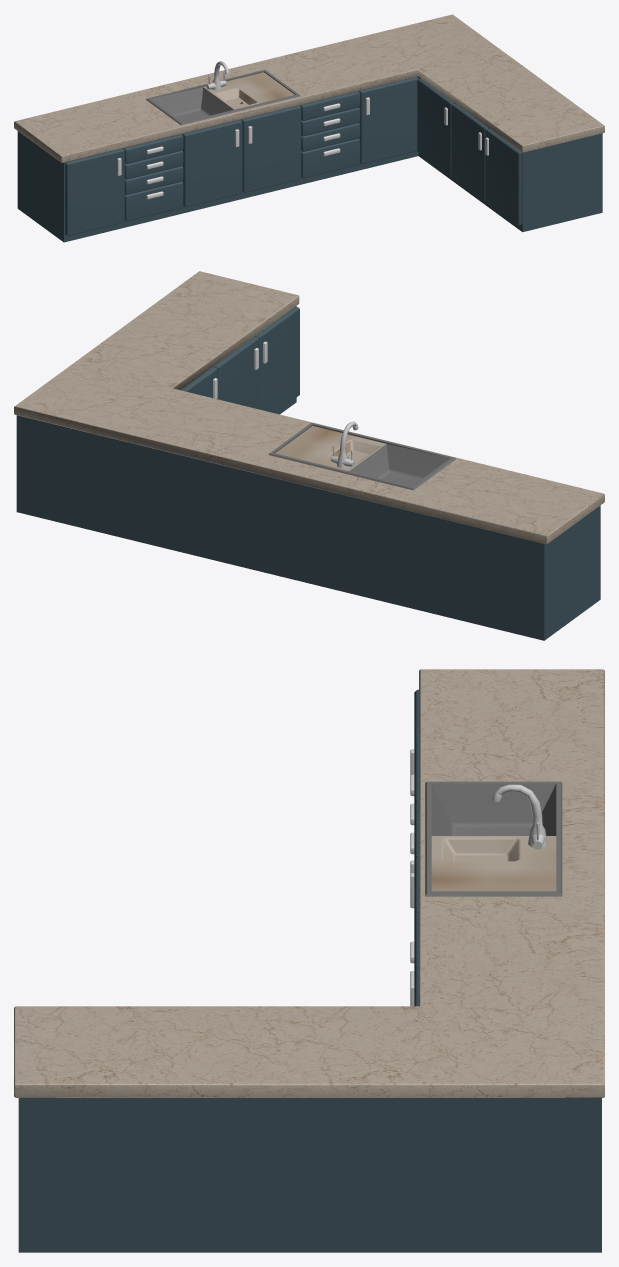
File: kitchen_042.fbx
3 renders of one model, top to bottom at view 1: azimuth 30°, elevation 25°; view 2: azimuth 150°, elevation 25°; view 3: azimuth 270°, elevation 25°, orthographic. The views are drawn at different scales.
Visible parts, largest first — view 1: kitchen_042; view 2: kitchen_042; view 3: kitchen_042.
Part boxes in pixels (x1,y1,x2,y2): kitchen_042: (14,14,604,242); kitchen_042: (14,271,604,640); kitchen_042: (14,669,604,1252).
Size of the model in its own units: 548 by 329 by 141.
